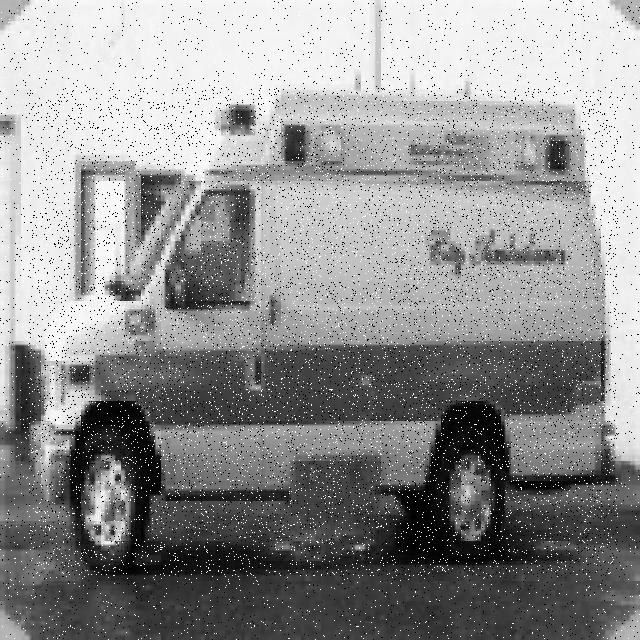Ambulance: (29, 88, 618, 576)
